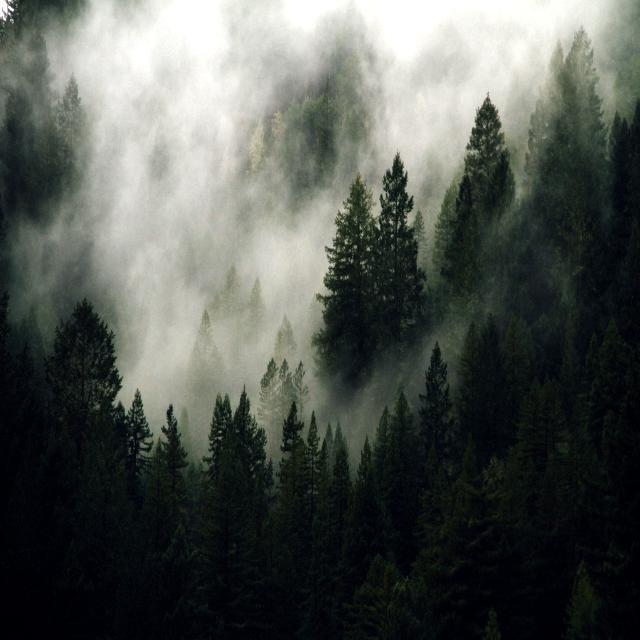Smoke: (3, 0, 518, 426)
